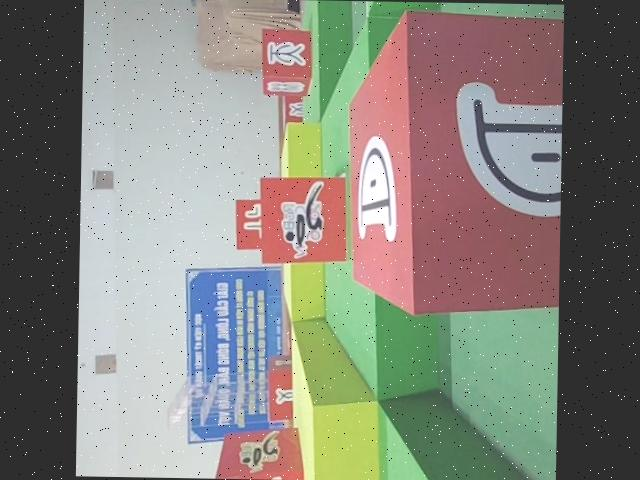R1: (255, 172, 350, 266), (212, 422, 309, 480)
R2 Fake: (258, 25, 314, 98)
R2 Real: (342, 7, 564, 319)
